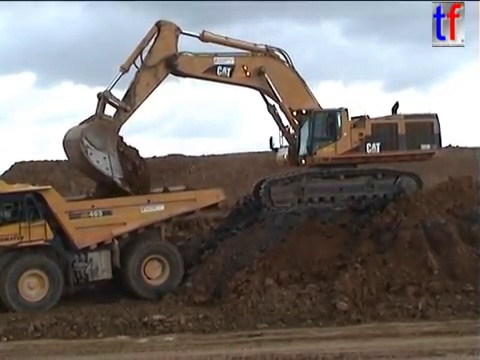excavator: (60, 17, 445, 214)
truck: (1, 176, 229, 316)
